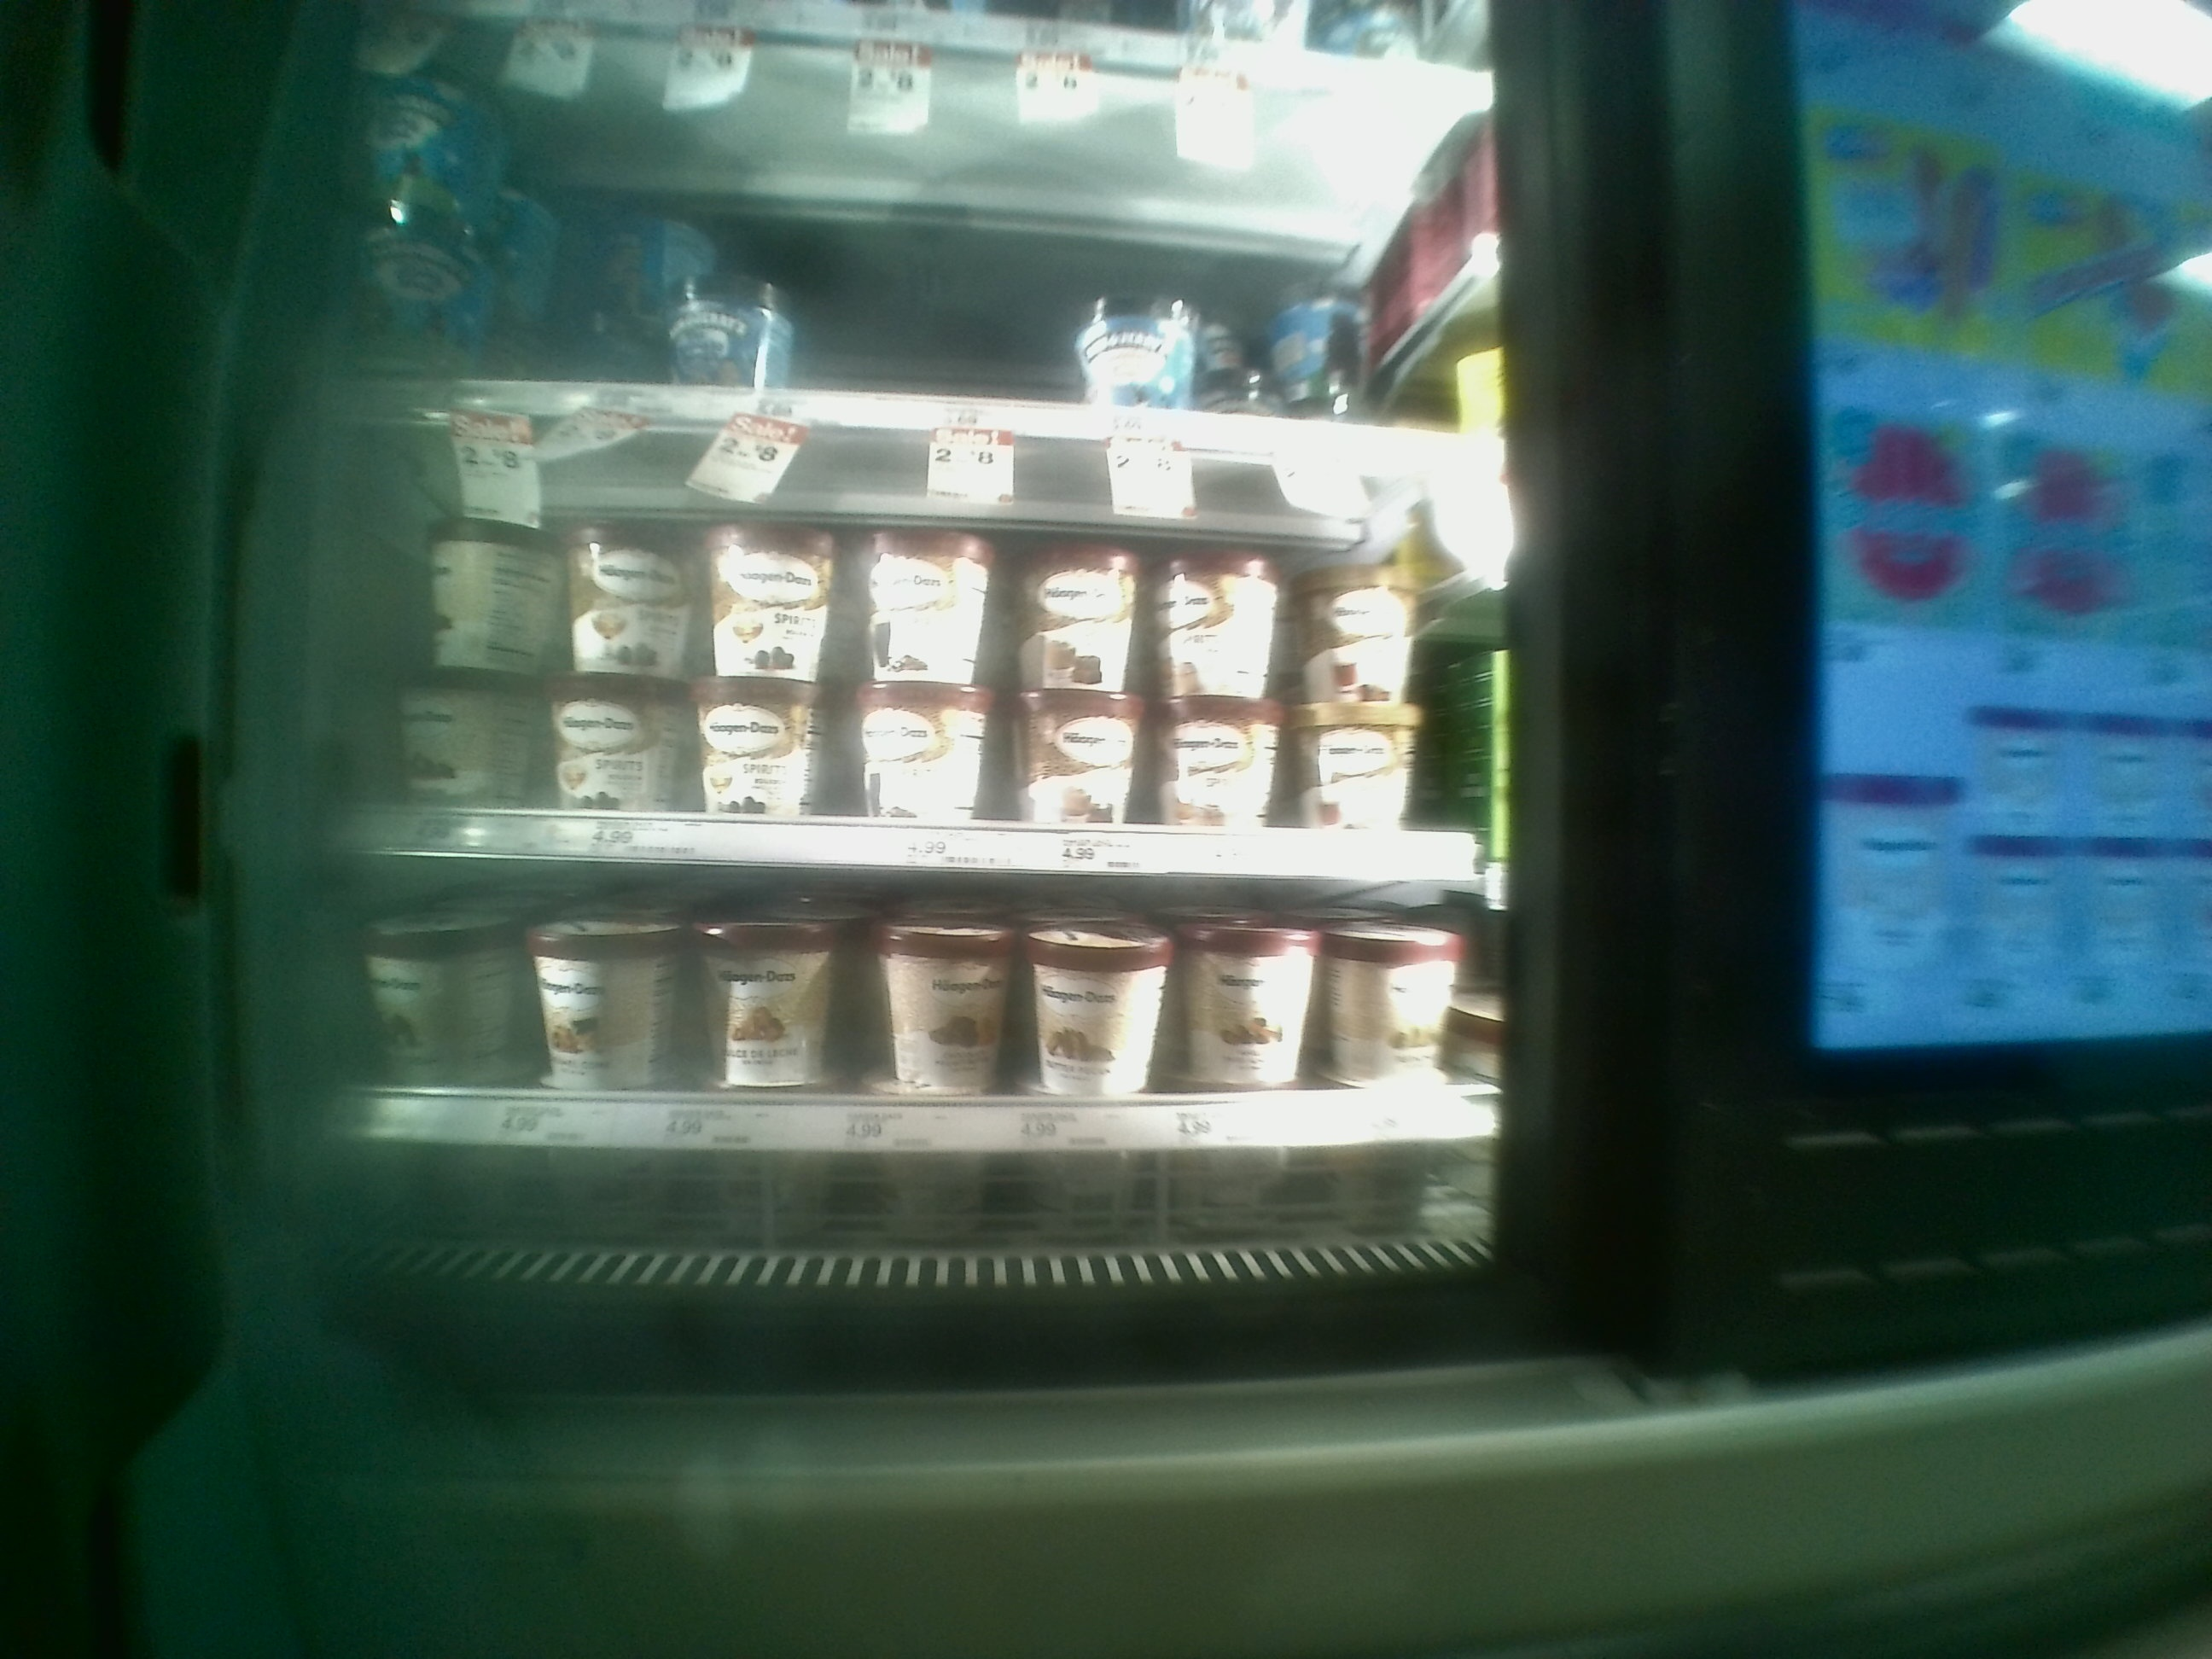shelf: (343, 430, 1515, 863), (341, 0, 1515, 420), (340, 859, 1508, 1202)
